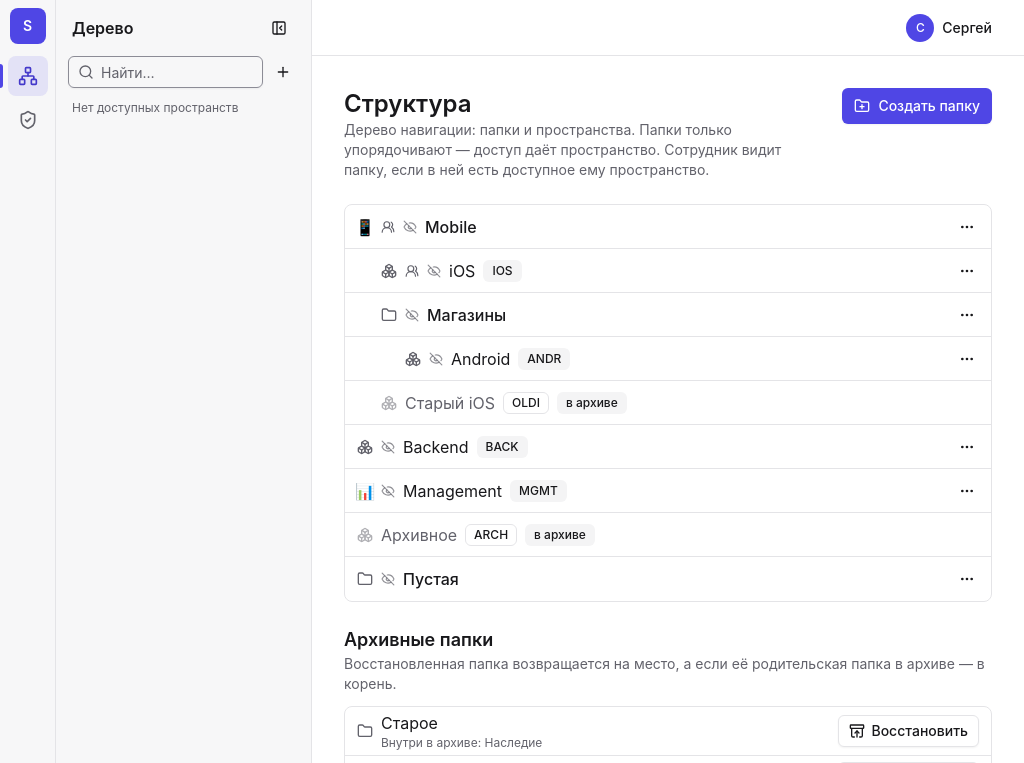
Test: Админка: «Структура» › удаление навсегда: пустая папка — с подтверждением, непустая — недоступно (LATER-43)
Click the button named "Действия с «Mobile»" at x=967, y=226, box [951,210,983,242]
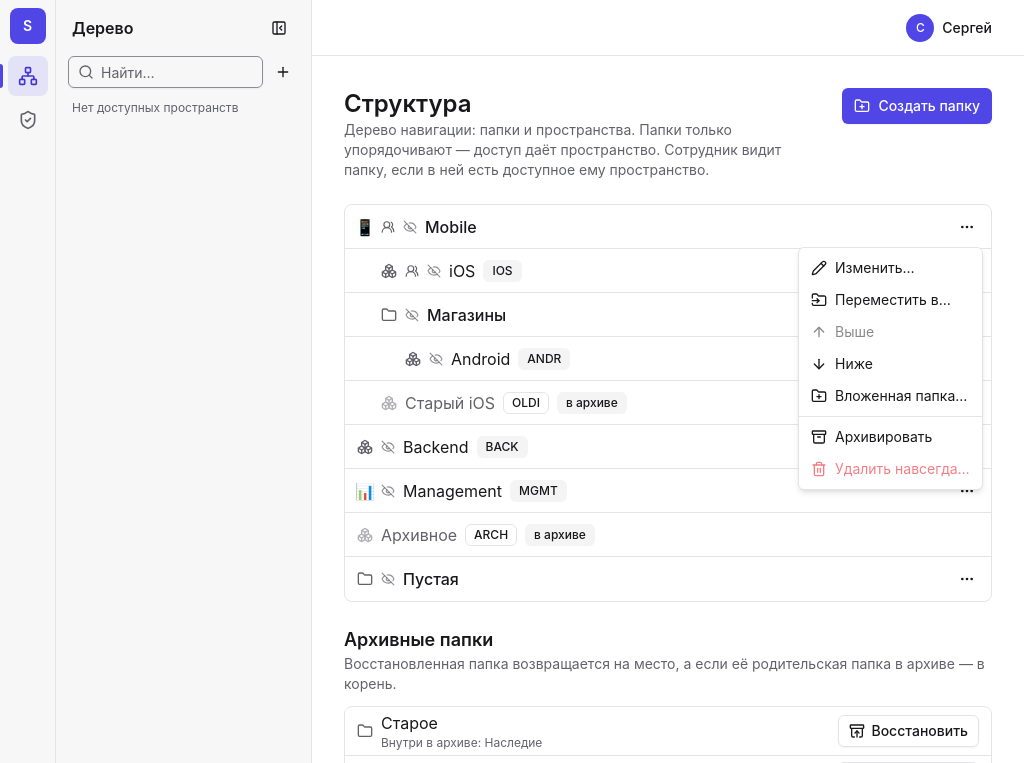
Press Escape
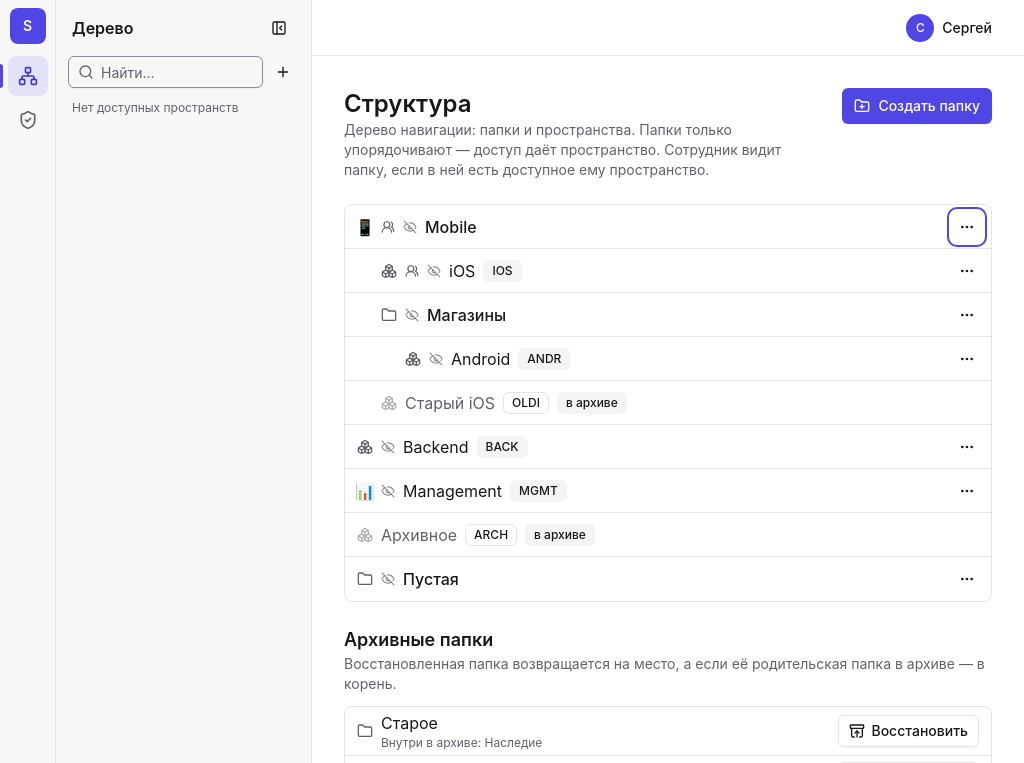
Click the button named "Действия с «Пустая»" at x=967, y=579, box [951,563,983,595]
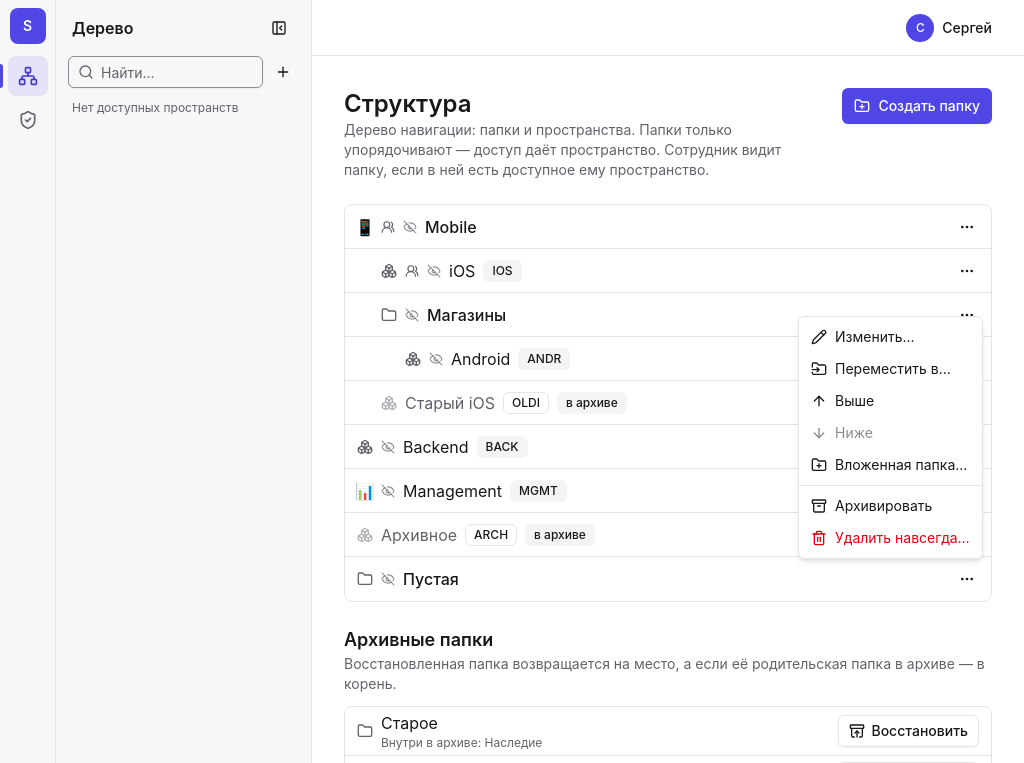
Click the menu item "Удалить навсегда…" at x=890, y=538, box [811,529,970,546]
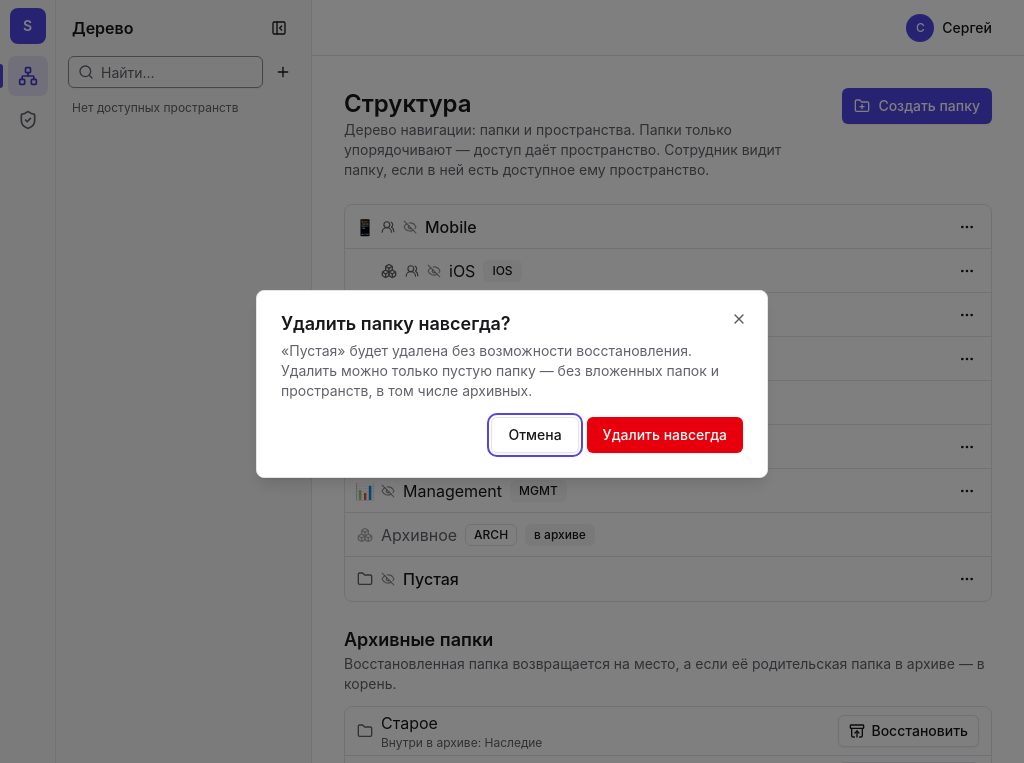
Click the button "Удалить навсегда" at x=665, y=435, box [587,417,743,453]
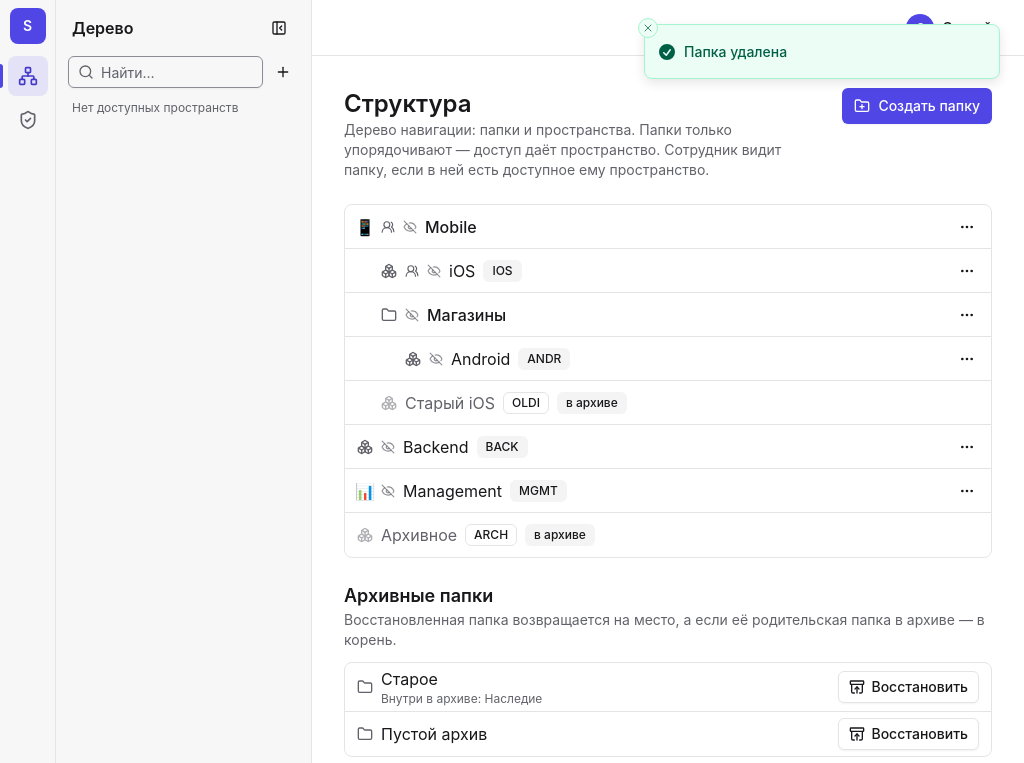
Expected: the text "Папка удалена" is shown, [684,41,787,62]
